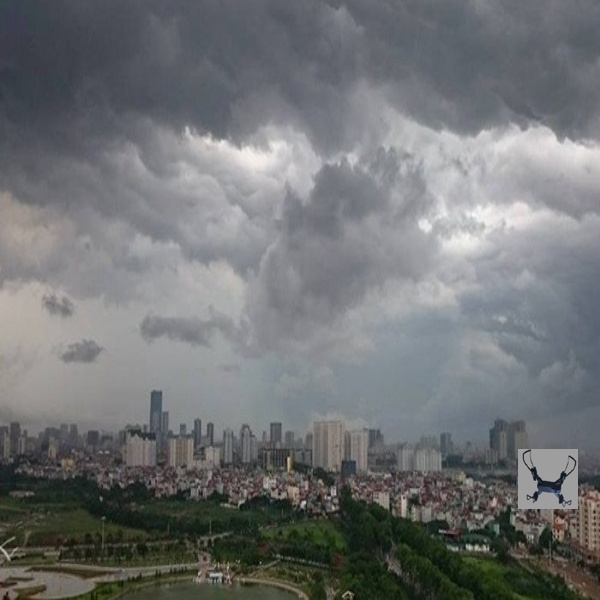drone: (519, 448, 579, 506)
